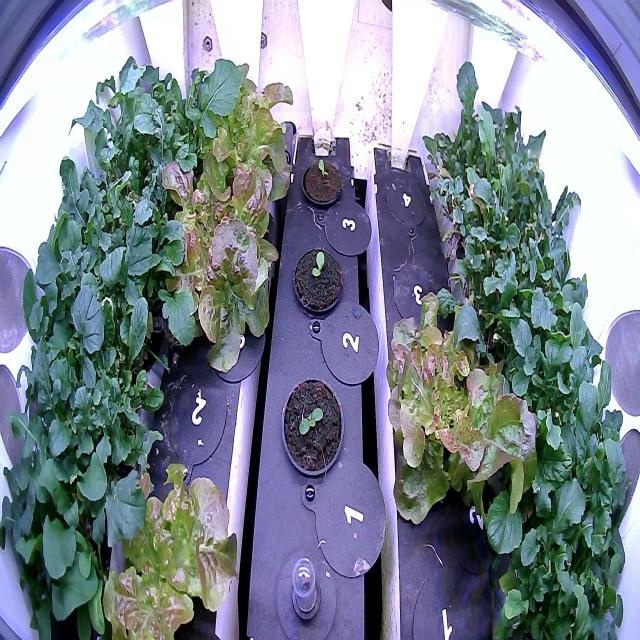empty_pod: (156, 355, 230, 485), (404, 553, 492, 639), (389, 256, 450, 336), (382, 167, 430, 234)
germination: (279, 373, 347, 485), (289, 242, 347, 323), (298, 154, 347, 212)
